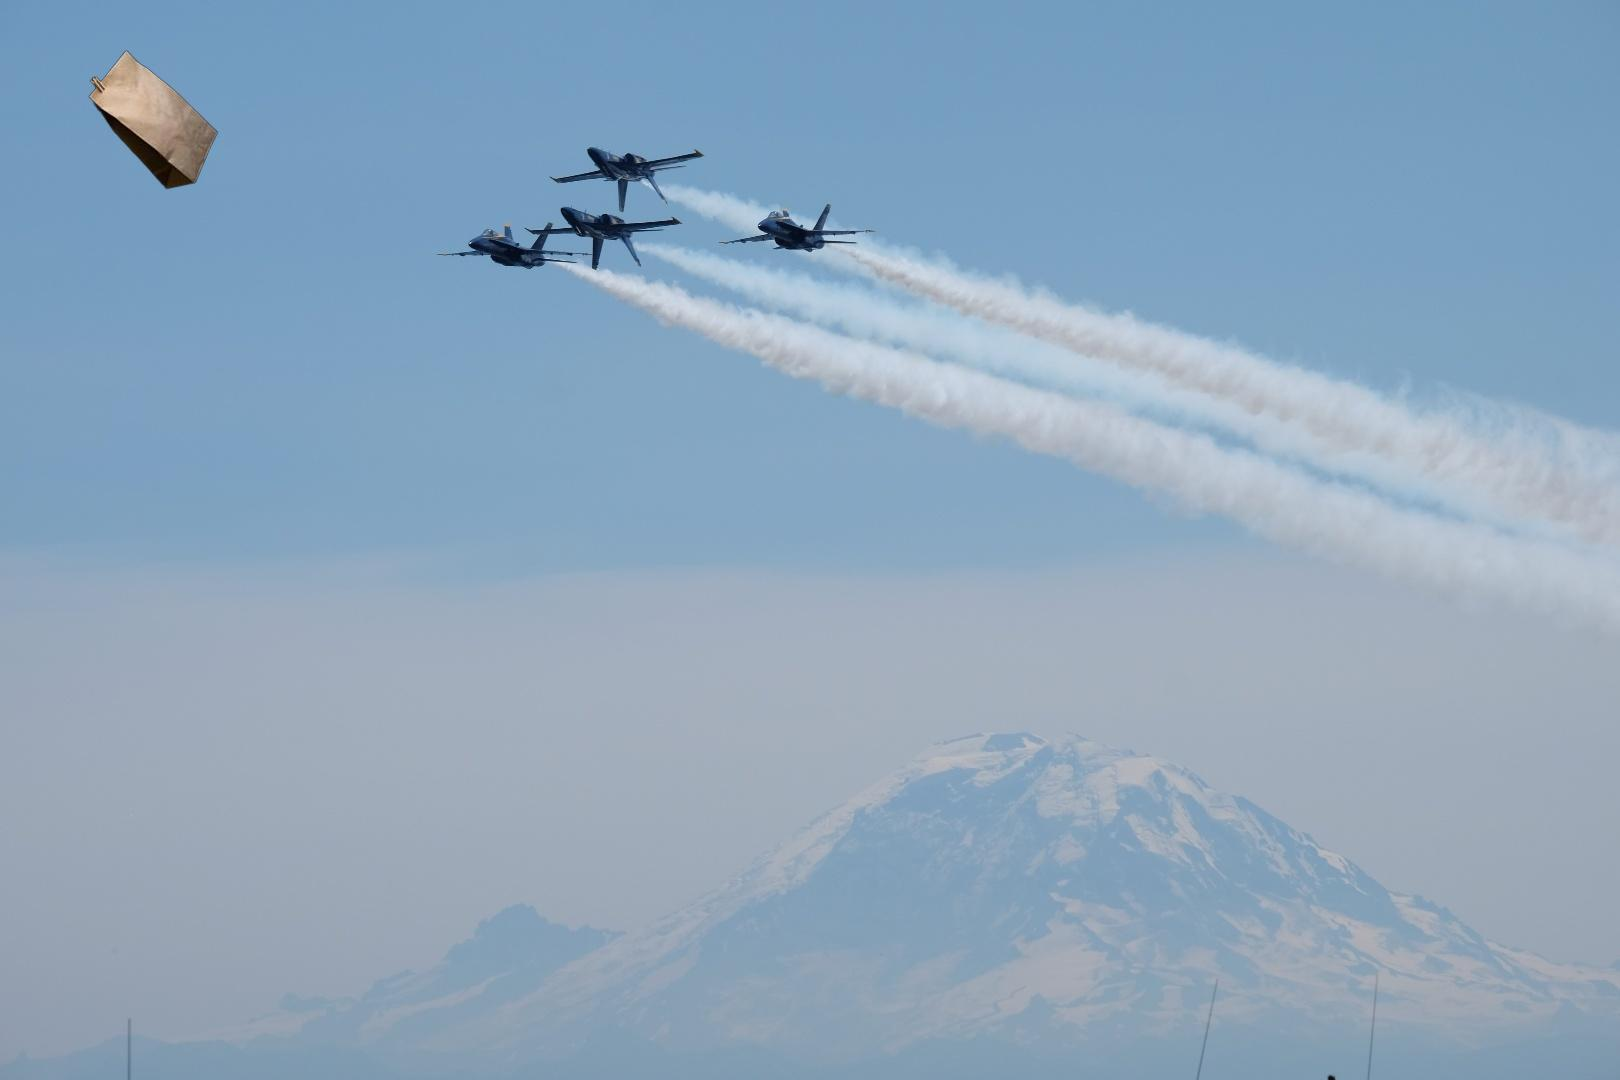paper-bag: (88, 48, 221, 192)
